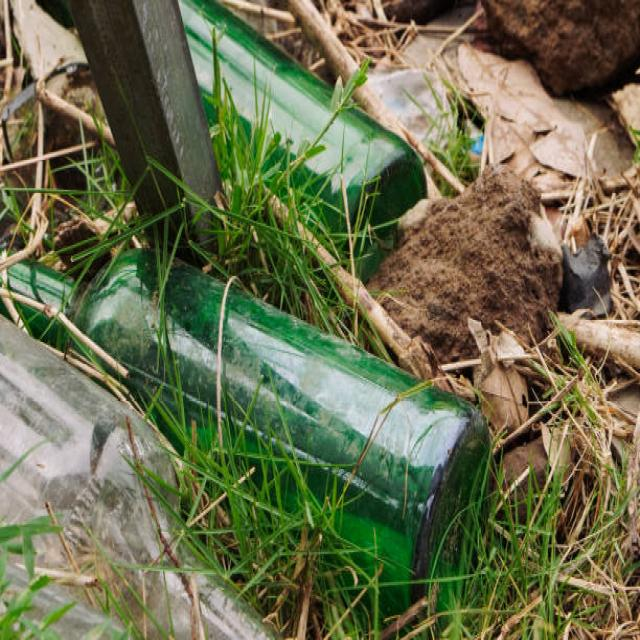electronic: (0, 238, 496, 625)
